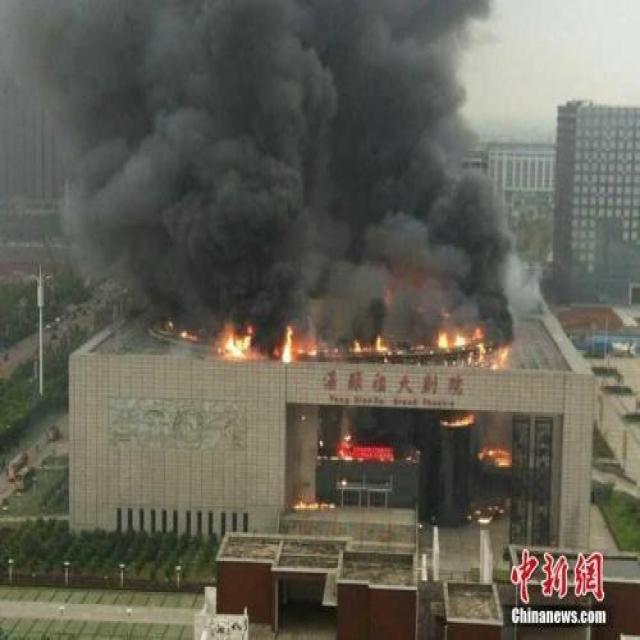Smoke: (0, 0, 545, 359)
